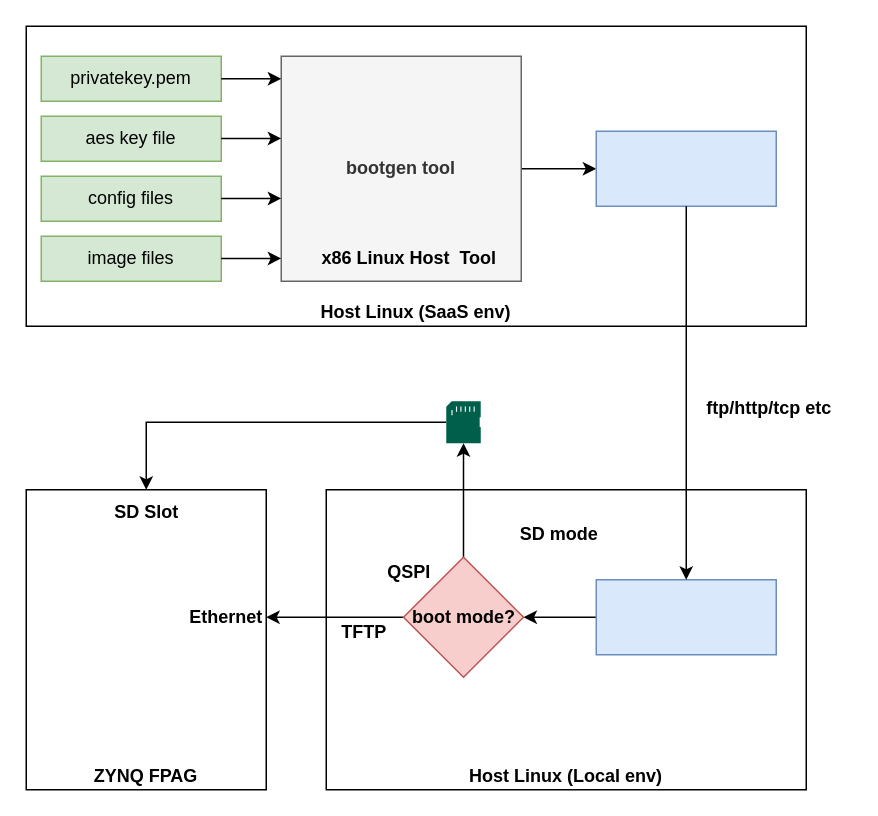
Some shapes in this 878 by 816 pixel diagram are drawn without their labels. Here are the shapes that lost their labels. From the top down, the centre of each, then its label:
At [685,168]: "boot.bin binary file".
At [685,616]: "boot.bin binary".
